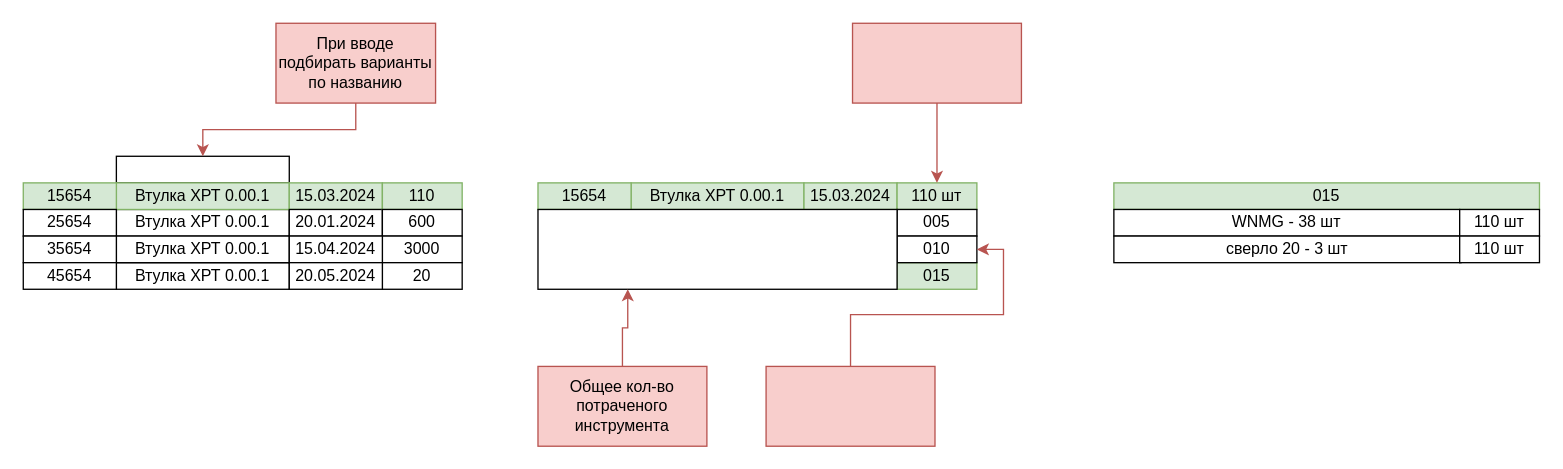
The diagram is 1563 pixels wide and 469 high, and some of its shapes have lost their labels. Each missing label, with the centre of its shape:
"WNMG - 38 шт сверло 20 - 3 шт Фреза 20 - 4 шт метчик М8 - 5 шт" goes at pixel 717 248.
"Общее кол-во деталей" goes at pixel 936 62.
"Подробный просмотр выдачи по операциям" goes at pixel 850 405.
"Поиск" goes at pixel 202 169.
